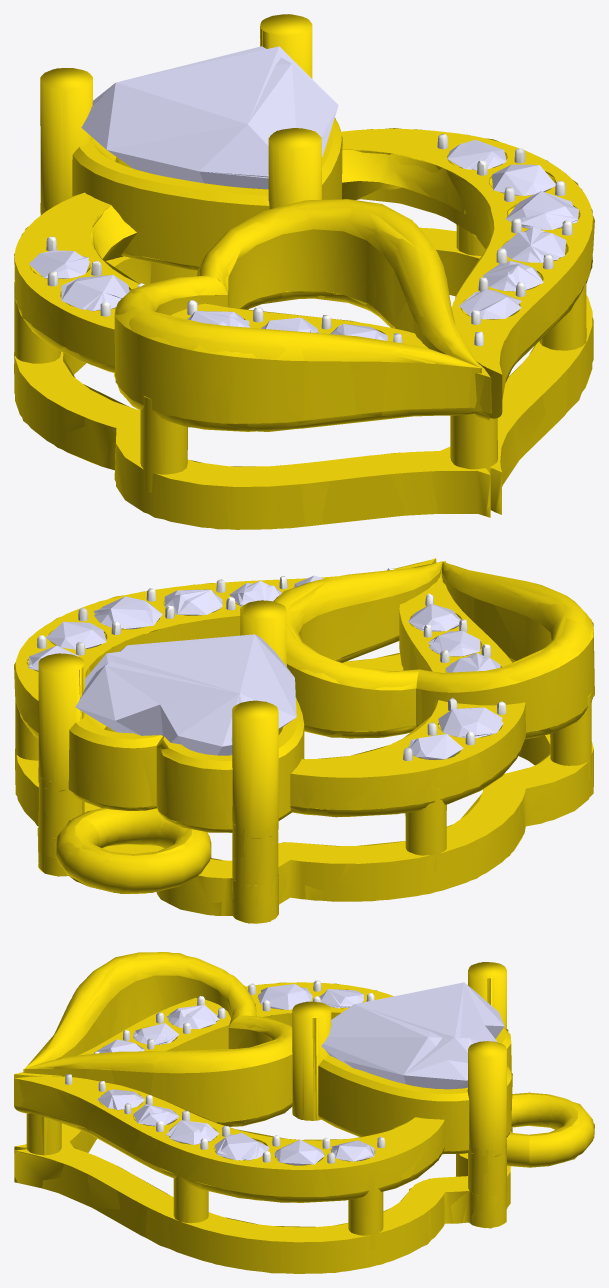
The model's file is DPN-D000666710.glb.
3 views of the same model, one above another, from view 1: azimuth 30°, elevation 25°; view 2: azimuth 150°, elevation 25°; view 3: azimuth 270°, elevation 25° (orthographic). The views are drawn at different scales.
Visible parts, largest first — view 1: highPolyMesh, lowPolyMesh; view 2: highPolyMesh, lowPolyMesh; view 3: highPolyMesh, lowPolyMesh.
Boxes of the visible parts, left/top/right/bottom form: highPolyMesh: left=14, top=14, right=592, bottom=529; lowPolyMesh: left=14, top=14, right=594, bottom=529; highPolyMesh: left=15, top=561, right=593, bottom=923; lowPolyMesh: left=14, top=558, right=594, bottom=923; highPolyMesh: left=14, top=952, right=594, bottom=1273; lowPolyMesh: left=14, top=952, right=594, bottom=1273.
Bounding box in the file's own units: 0.00895 × 0.0038 × 0.0116.
